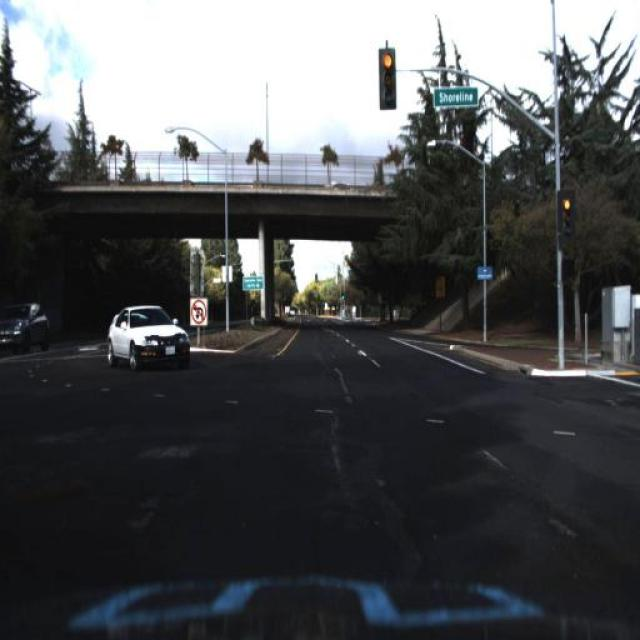car: (101, 297, 195, 375), (0, 299, 49, 363)
trafficLight-Green: (556, 188, 574, 244)
trafficLight-RedLeft: (377, 47, 395, 108)
